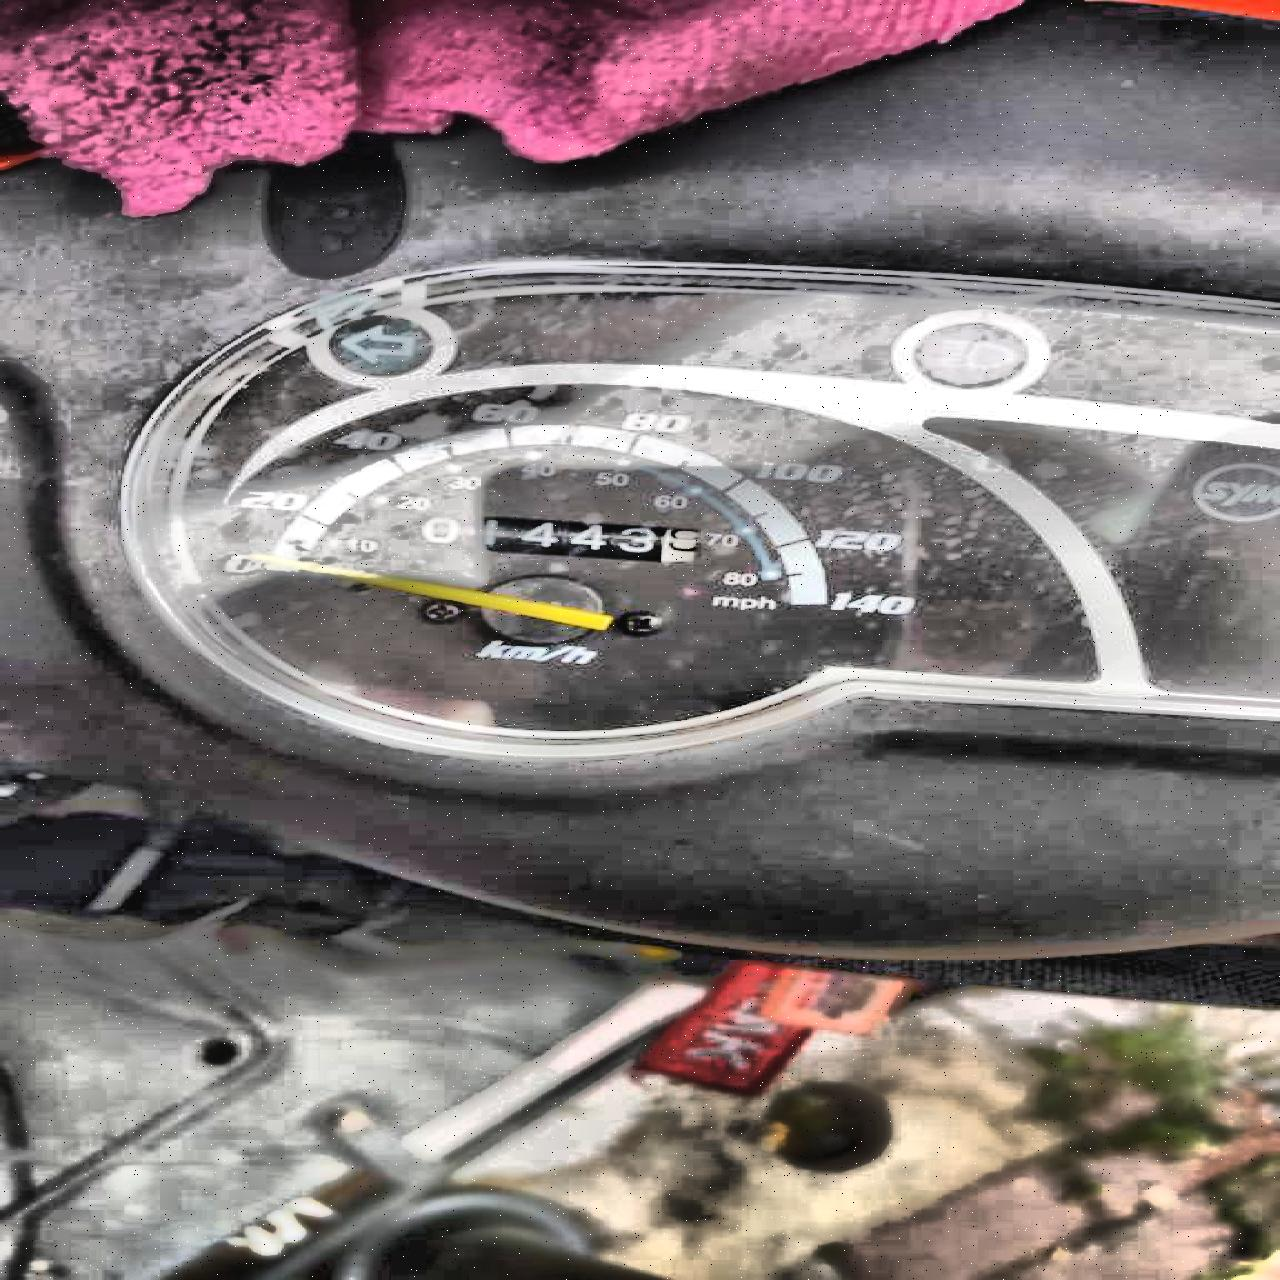0: (418, 514, 462, 552)
1: (474, 514, 504, 554)
3: (616, 525, 656, 557)
4: (569, 521, 609, 554), (518, 519, 556, 551)
8: (667, 524, 700, 556)
odometer: (389, 513, 702, 565)
